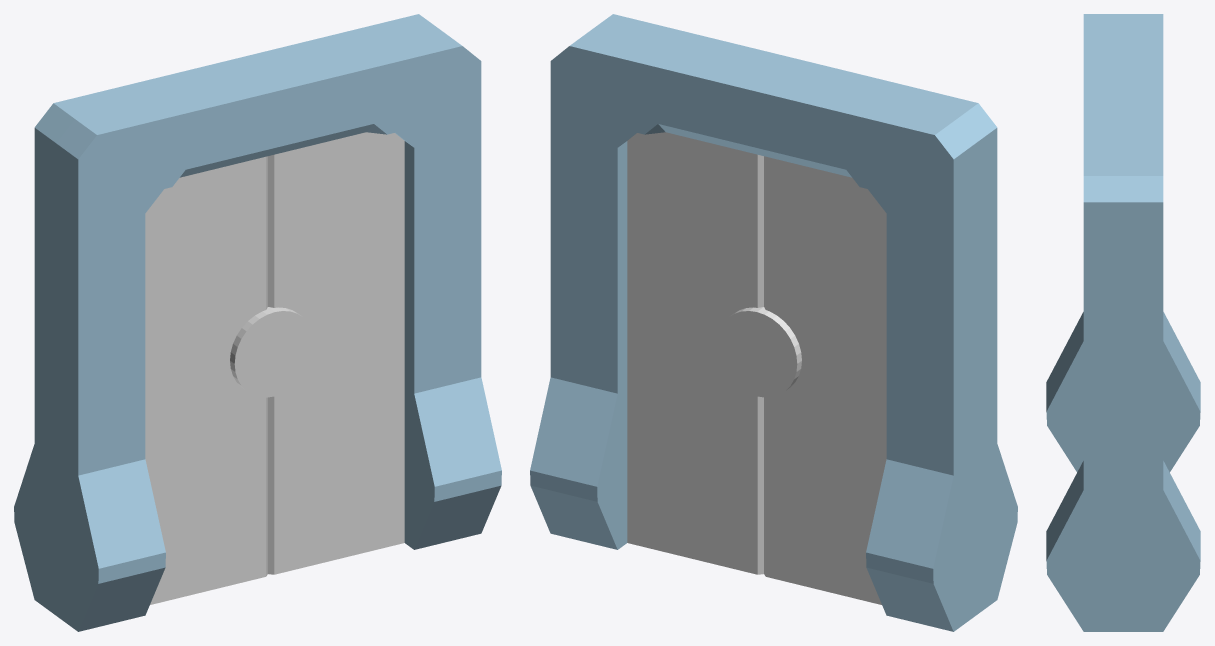
File: scifi door.fbx
3 views of the same model, side by side, from view 1: azimuth 30°, elevation 25°; view 2: azimuth 150°, elevation 25°; view 3: azimuth 270°, elevation 25° (orthographic). The views are drawn at different scales.
Visible parts, largest first — view 1: Cube, Cube.003, Cube.004, Cylinder.001; view 2: Cube, Cube.003, Cube.004, Cylinder; view 3: Cube.
Part boxes in pixels (x1=…): Cube: x1=14, y1=14, x2=501, y2=631; Cube.003: x1=268, y1=132, x2=404, y2=574; Cube.004: x1=145, y1=156, x2=267, y2=604; Cylinder.001: x1=230, y1=307, x2=315, y2=397; Cube: x1=530, y1=14, x2=1017, y2=631; Cube.003: x1=627, y1=132, x2=763, y2=574; Cube.004: x1=764, y1=156, x2=886, y2=604; Cylinder: x1=716, y1=307, x2=801, y2=397; Cube: x1=1046, y1=14, x2=1200, y2=631.
Size of the model in its own units: 300 by 350 by 109.
